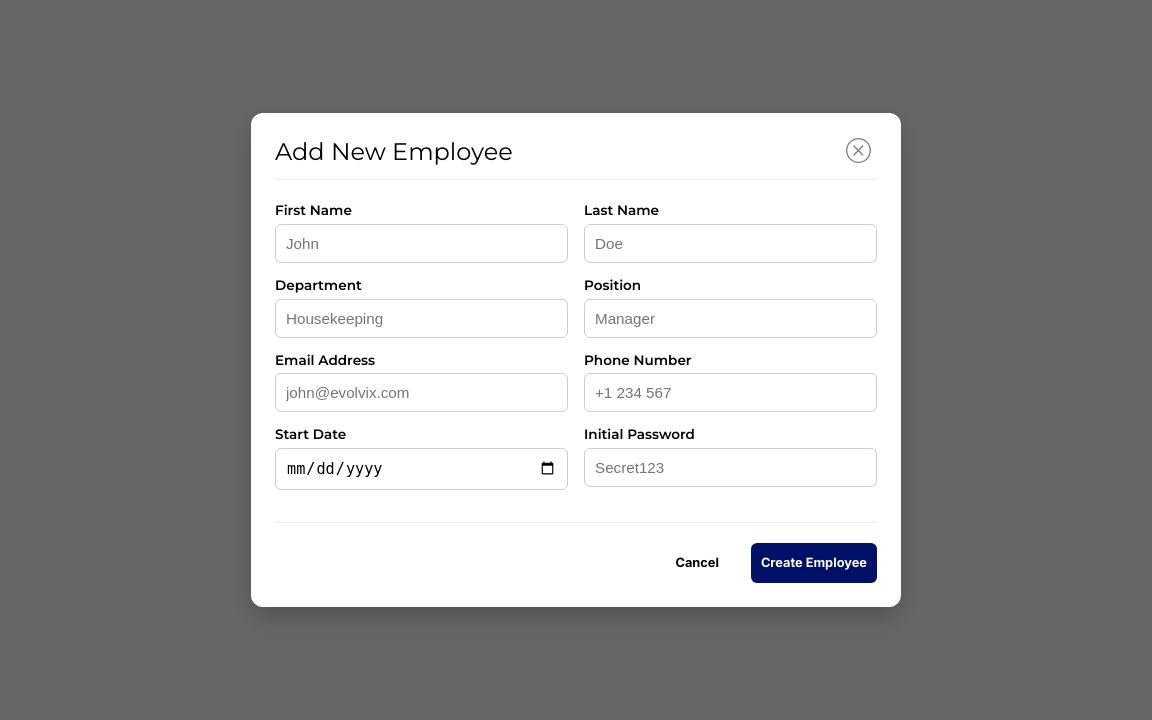
Test: AddEmployeePopup › should show specific error for invalid email format
The image size is (1152, 720).
In the field with placeholder "john@evolvix.com": (422, 393) x1=275 y1=373 x2=568 y2=412, type "invalid-email"
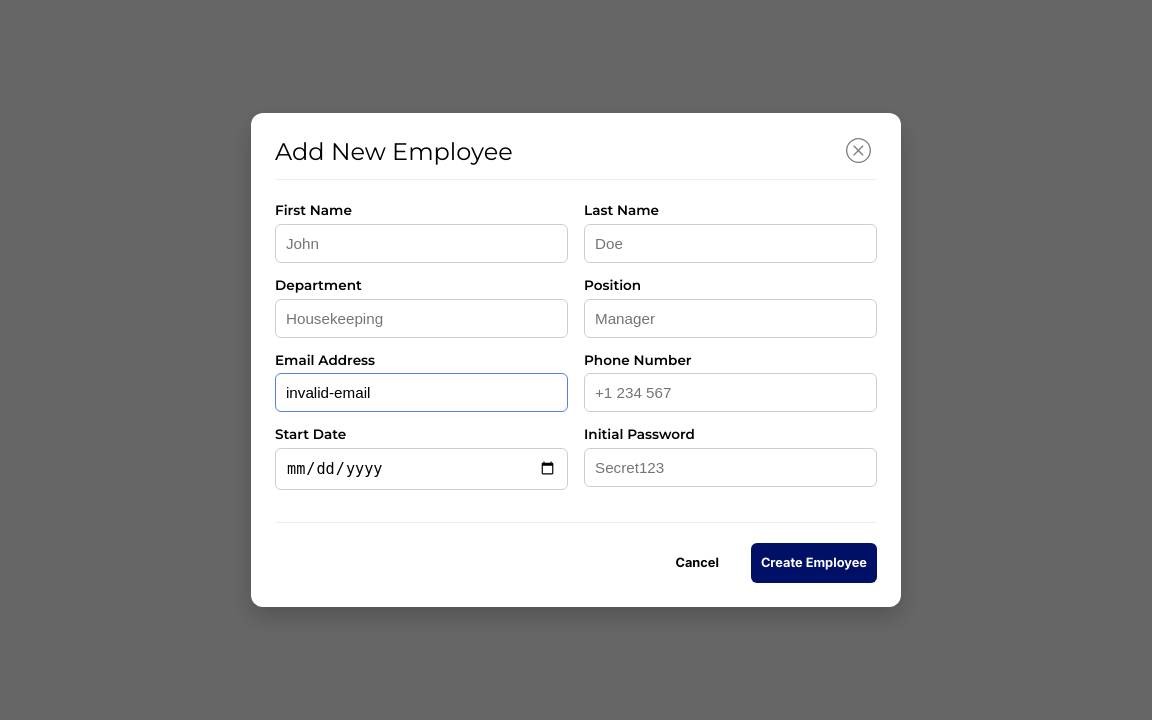
Click the button "Create Employee": click(814, 563) x1=751 y1=543 x2=877 y2=583
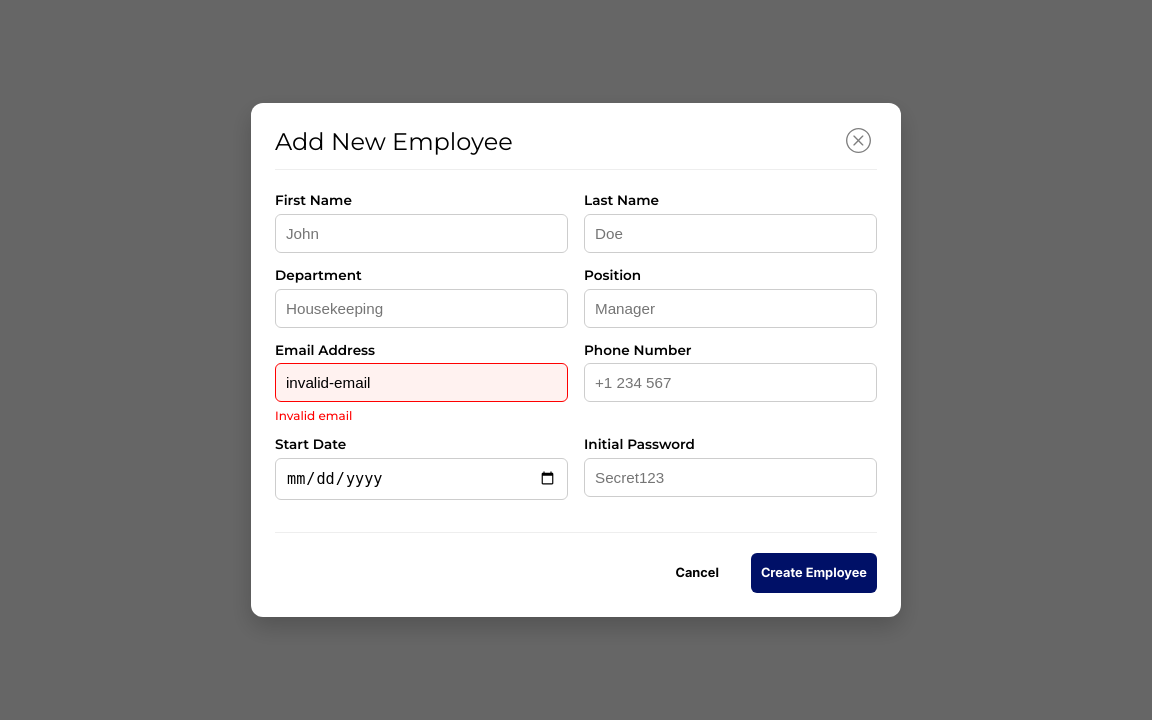
Result: the text "Invalid email" is shown at x1=275 y1=408 x2=352 y2=423
